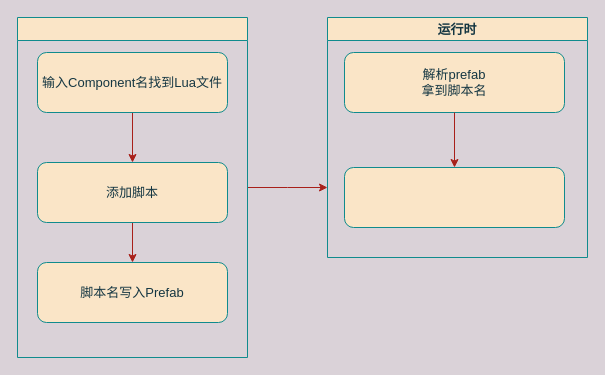
Image size: 605x375. Some labels were removed from this diagram. Here are the shapes that lost their labels. From the top down, the centre of each, then its label:
[132,187]: 编辑器
[454,197]: 执行脚本，实例化Component
